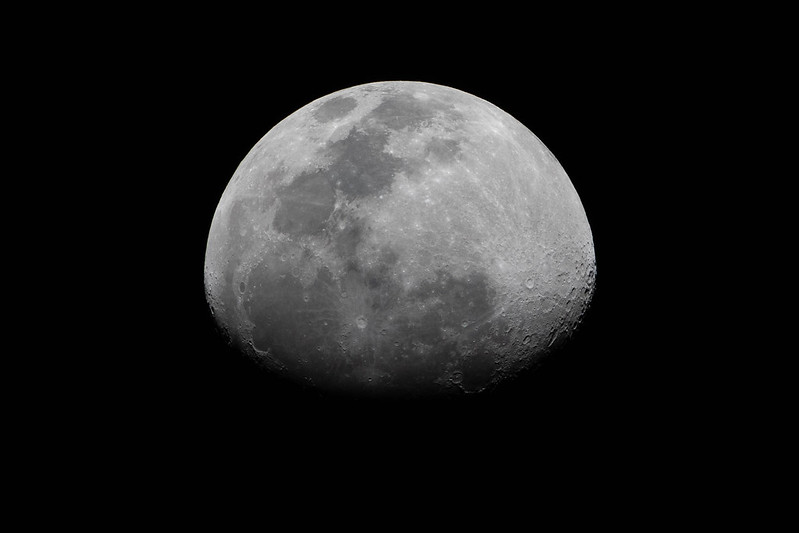crater: (313, 293, 420, 365), (483, 233, 558, 314), (404, 87, 433, 110), (232, 273, 256, 299), (447, 366, 465, 387), (336, 219, 351, 235), (567, 283, 581, 300), (458, 317, 473, 332), (250, 221, 262, 238), (262, 222, 276, 236), (374, 192, 389, 203), (387, 147, 398, 157)
